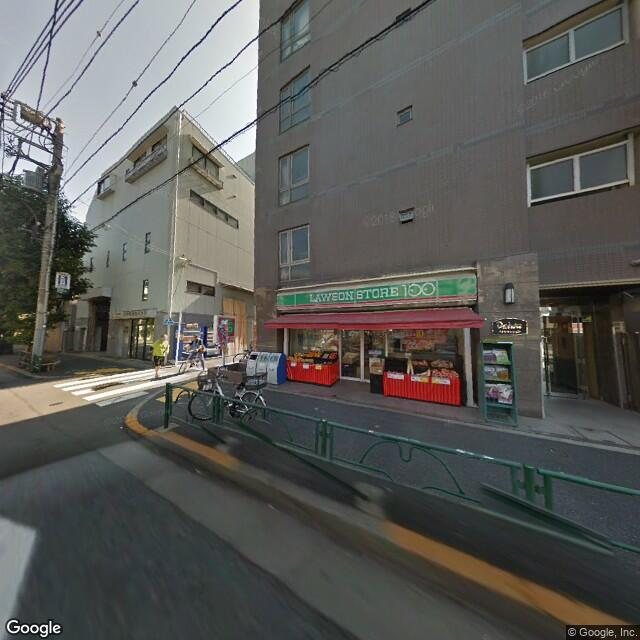lawson: (275, 271, 482, 313)
